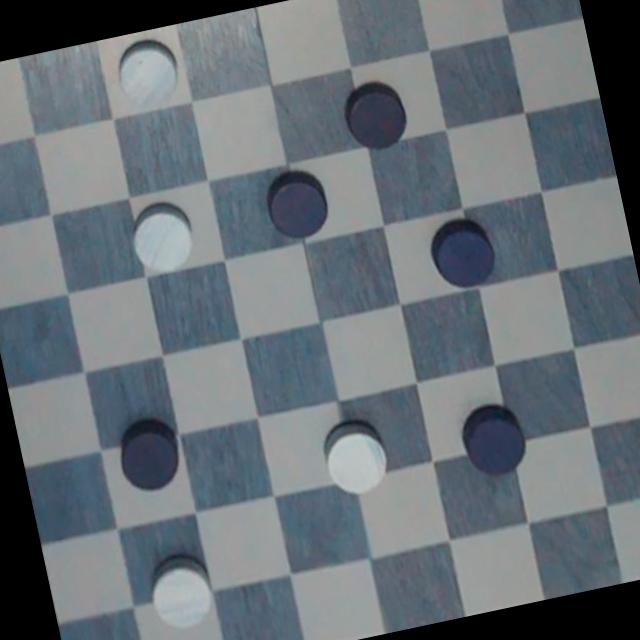BOARD: (0, 0, 640, 640)
black: (326, 61, 424, 163), (248, 154, 340, 253), (417, 204, 507, 298), (452, 394, 537, 486), (109, 411, 192, 500)
white: (306, 414, 398, 506), (116, 195, 205, 283), (136, 550, 222, 638), (104, 33, 189, 115)
